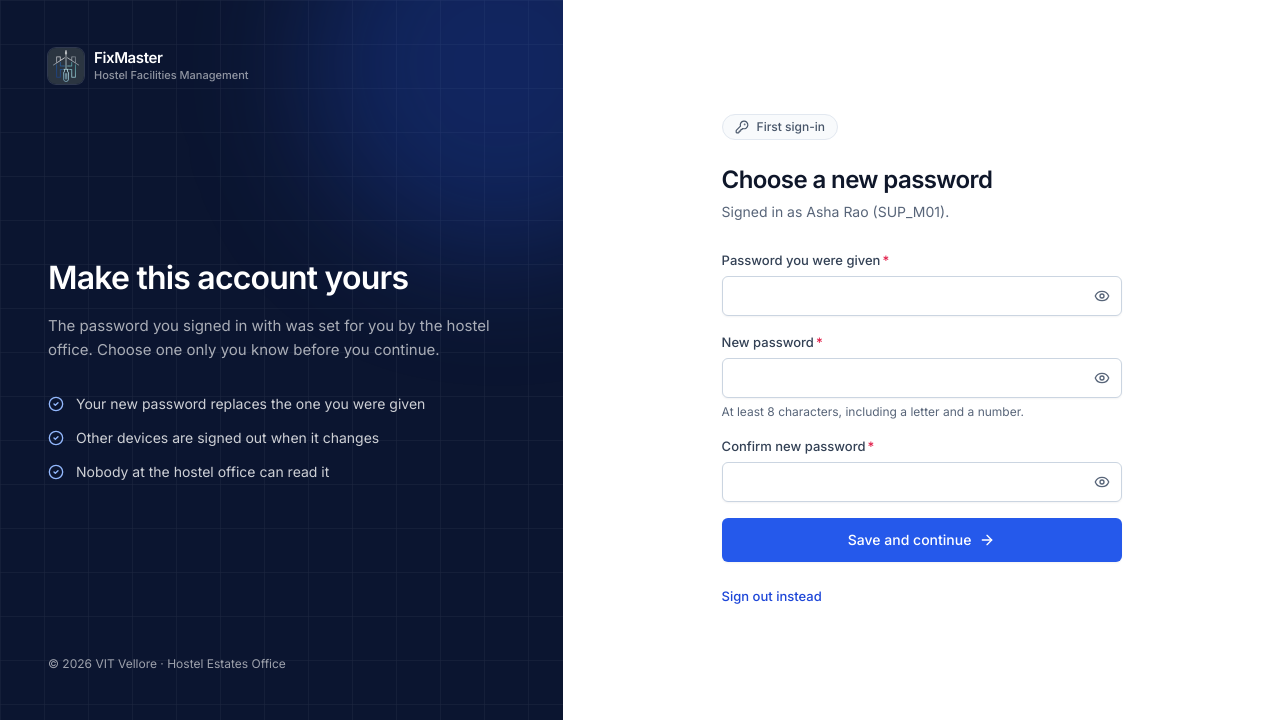
ForcePasswordChange › shows the server message when the given password was wrong
Type "Wrong#Pass42xy" into the password field labelled "Password you were given*" at [922, 296], box x1=722 y1=276 x2=1122 y2=316
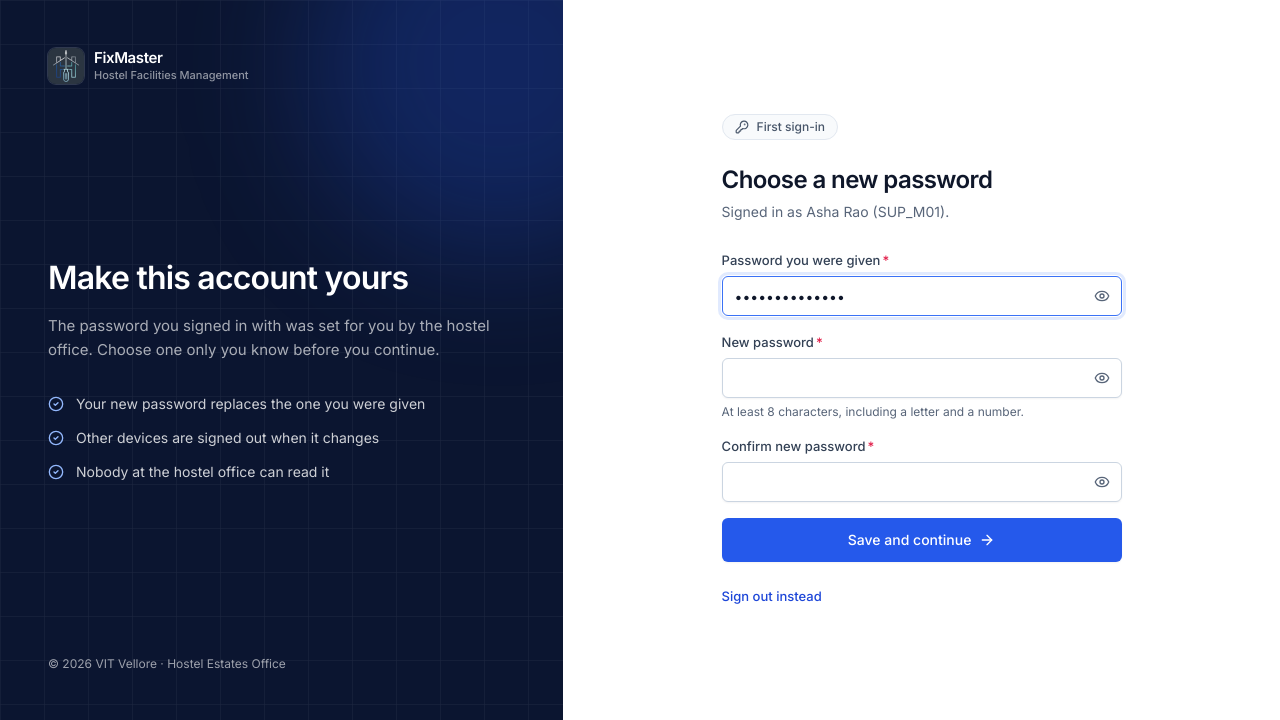
Type "Orchard9Maple" into the password field labelled "New password*" at [922, 378], box x1=722 y1=358 x2=1122 y2=398
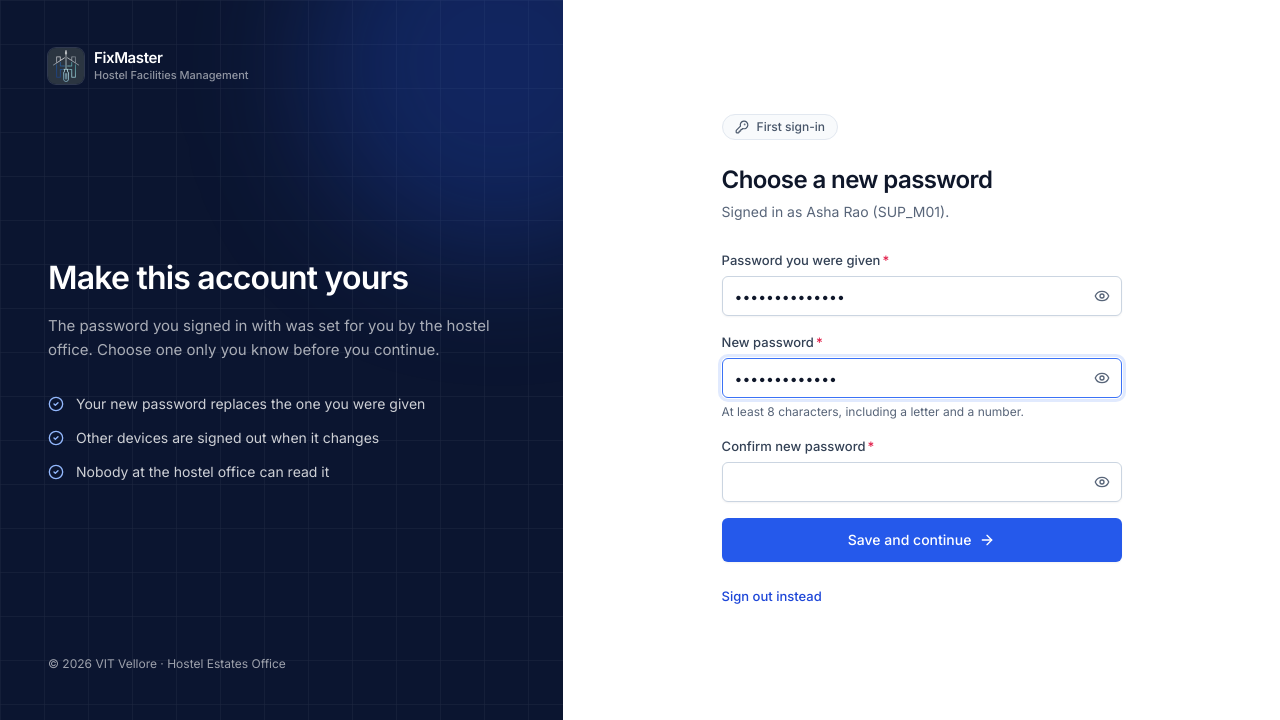
Type "Orchard9Maple" into the password field labelled "Confirm new password*" at [922, 482], box x1=722 y1=462 x2=1122 y2=502
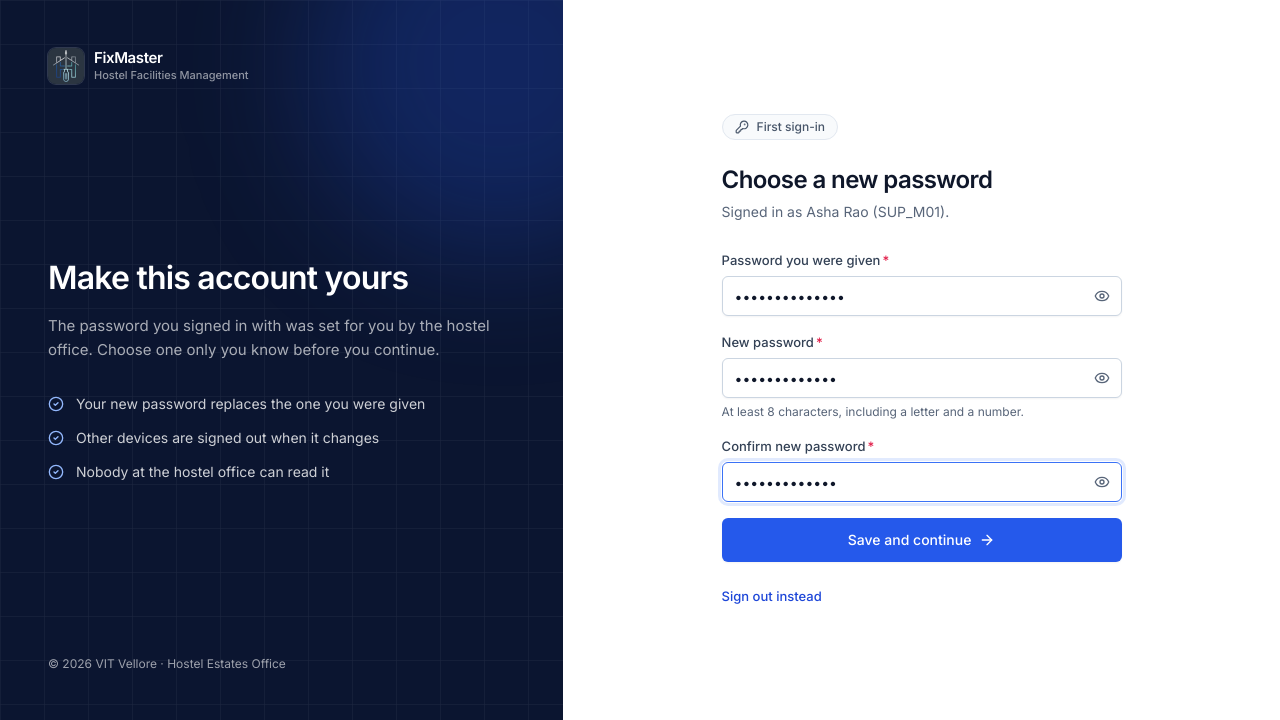
Click the button "Save and continue" at [922, 540], box x1=722 y1=518 x2=1122 y2=562
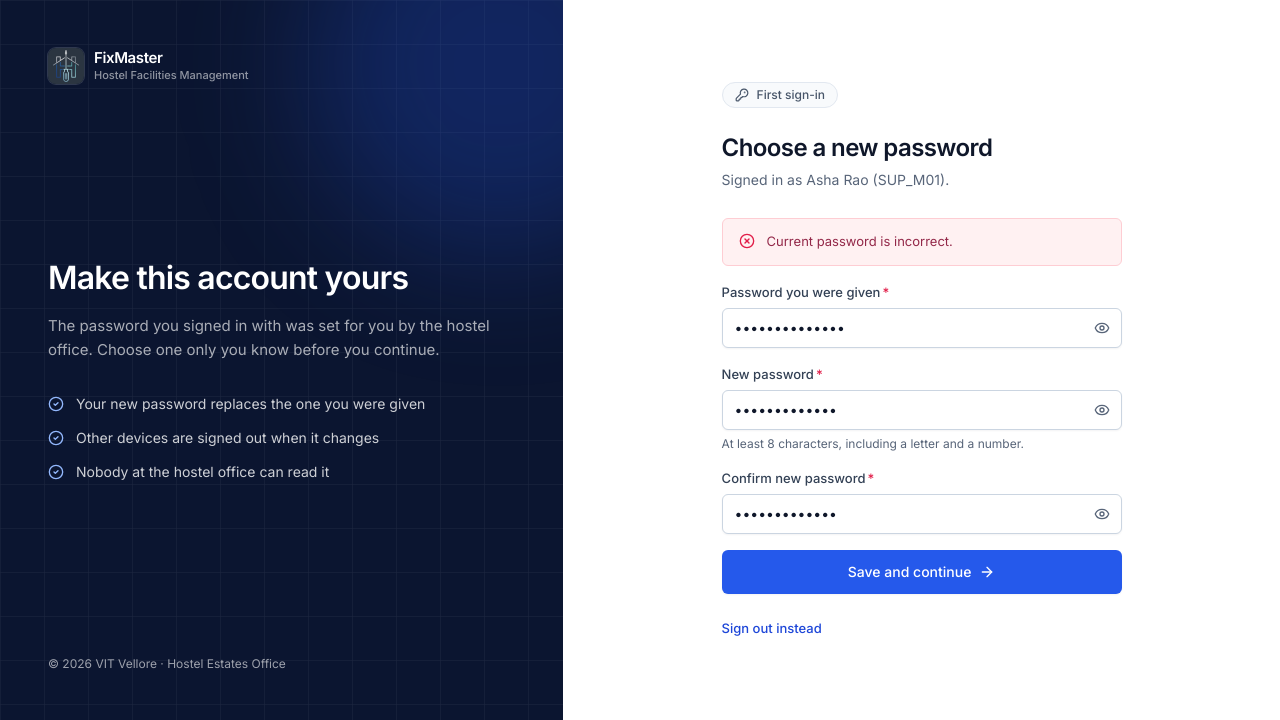
Result: the text "Current password is incorrect." is shown at x1=767 y1=233 x2=953 y2=249
